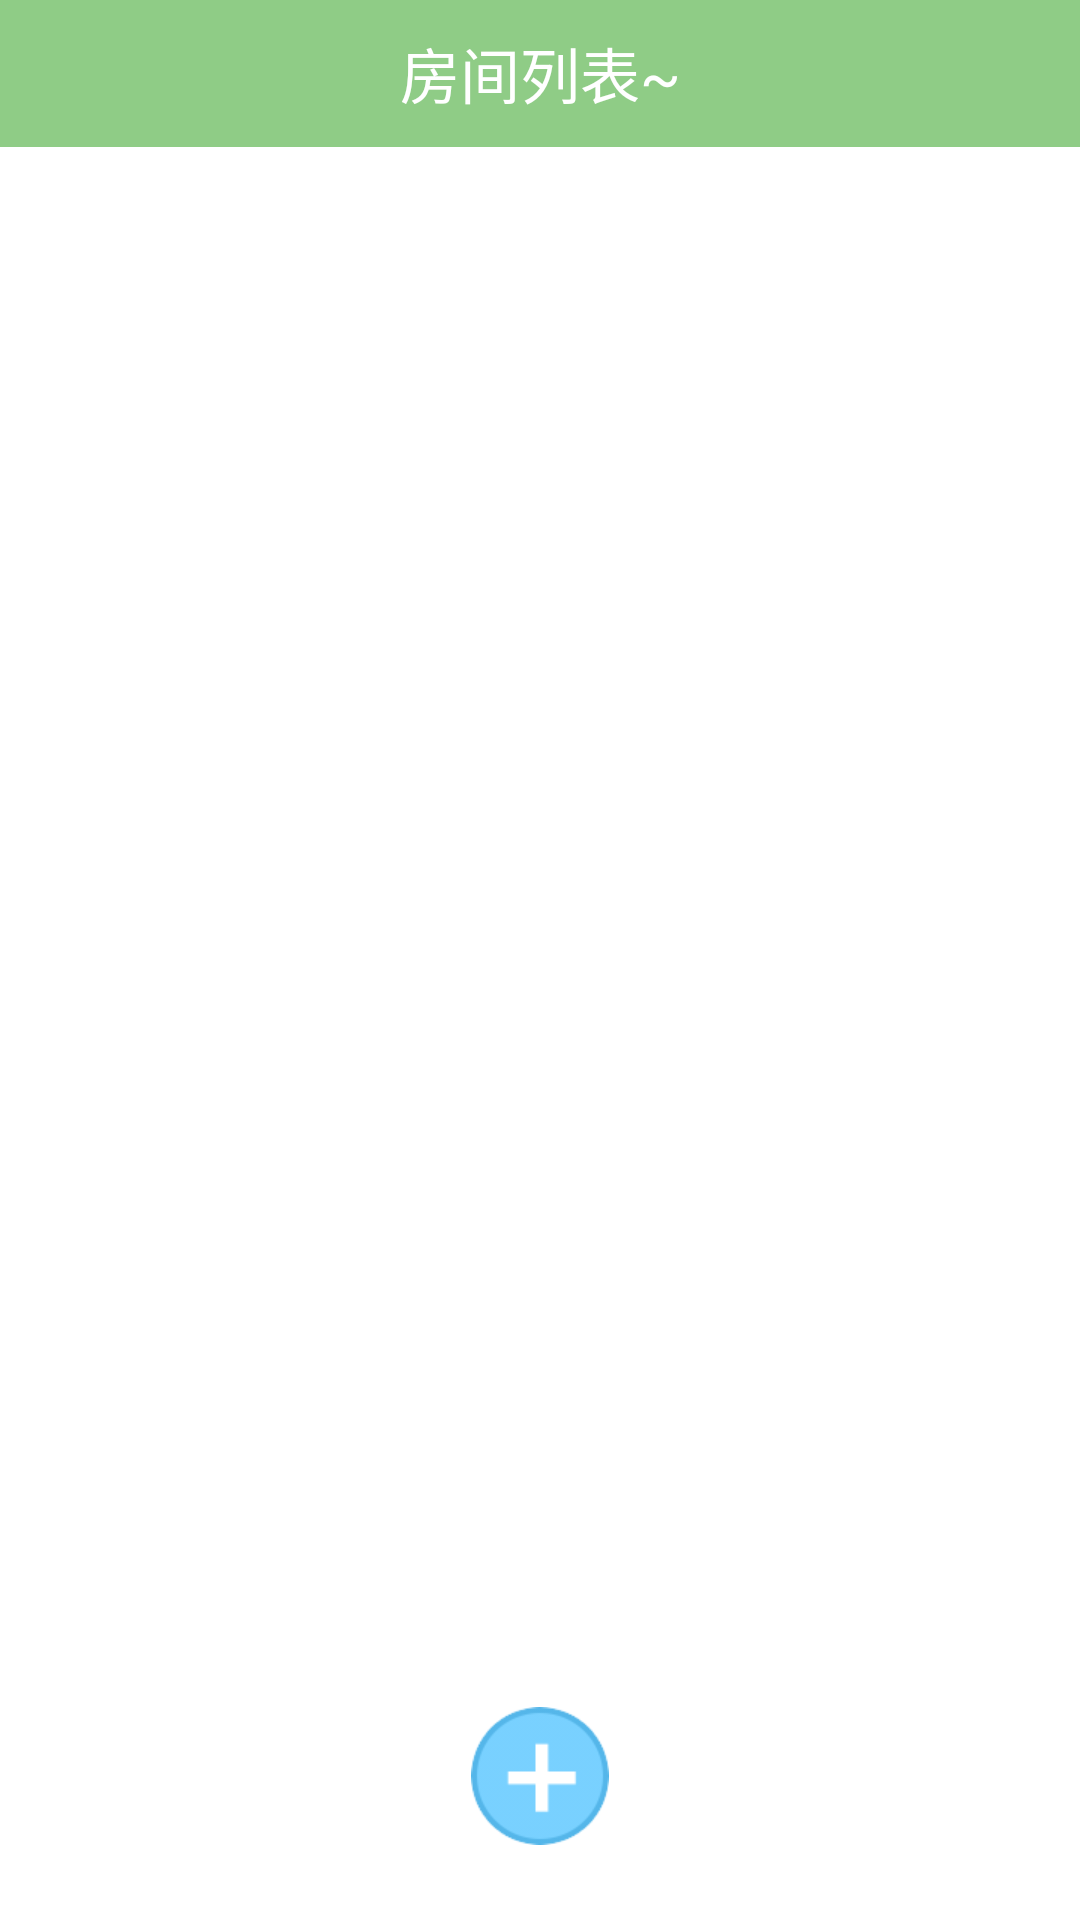

Where icons sit on this 1080 × 1920 app screen, as (x1, y1, x2, y2):
create: (471, 1707, 609, 1845)
